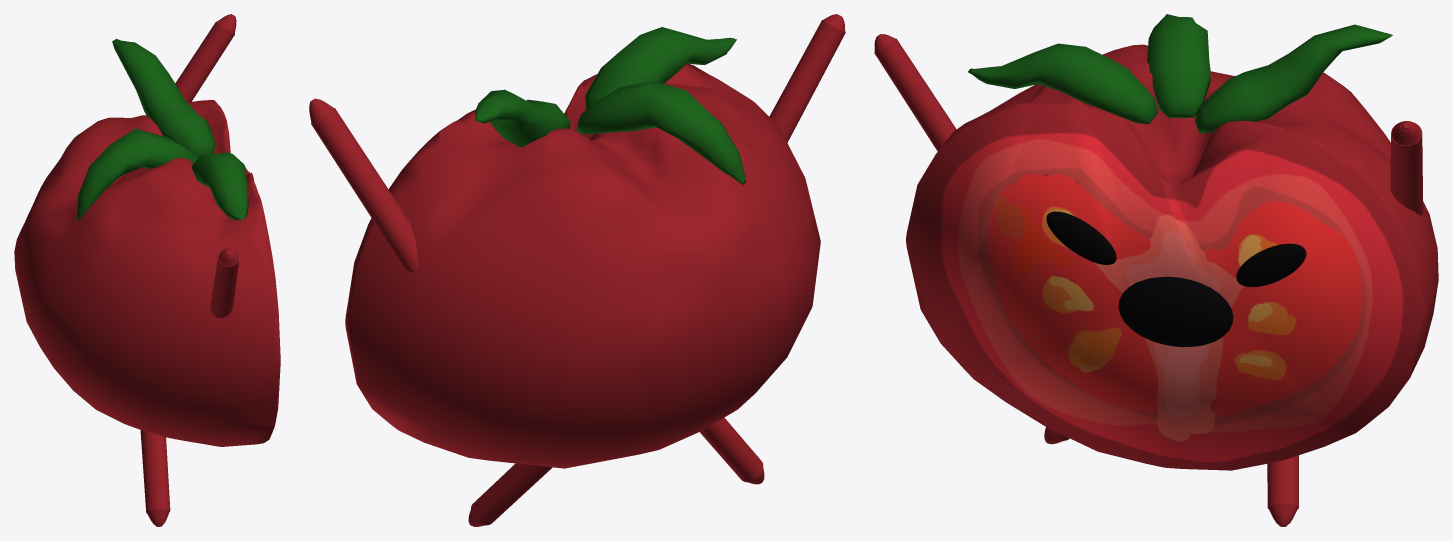
Rendered from tomato.glb.
3 views of the same model, side by side, from view 1: azimuth 30°, elevation 25°; view 2: azimuth 150°, elevation 25°; view 3: azimuth 270°, elevation 25° (orthographic). The views are drawn at different scales.
Parts seen in each view (by area): view 1: tomato body, tomato leaves, Cylinder.003, Cylinder, Cylinder.001; view 2: tomato body, tomato leaves, Cylinder, Cylinder.001, Cylinder.002, Cylinder.003; view 3: tomato body, tomato leaves, Sphere.002, Cylinder.001, Cylinder, Sphere, Sphere.001, Cylinder.002.
Boxes of the visible parts, bbox=[...] form: tomato body: bbox=[14, 100, 280, 446]; tomato leaves: bbox=[76, 39, 248, 220]; Cylinder.003: bbox=[140, 430, 170, 526]; Cylinder: bbox=[175, 14, 236, 102]; Cylinder.001: bbox=[210, 248, 239, 317]; tomato body: bbox=[345, 63, 820, 468]; tomato leaves: bbox=[475, 27, 745, 184]; Cylinder: bbox=[309, 98, 418, 273]; Cylinder.001: bbox=[769, 14, 845, 142]; Cylinder.002: bbox=[468, 463, 552, 526]; Cylinder.003: bbox=[700, 417, 764, 484]; tomato body: bbox=[906, 44, 1438, 470]; tomato leaves: bbox=[968, 14, 1392, 133]; Sphere.002: bbox=[1118, 276, 1233, 347]; Cylinder.001: bbox=[874, 34, 956, 151]; Cylinder: bbox=[1390, 121, 1423, 215]; Sphere: bbox=[1046, 211, 1116, 264]; Sphere.001: bbox=[1236, 243, 1306, 287]; Cylinder.002: bbox=[1267, 455, 1298, 526].
Size of the model in its own units: 2.18 by 2.72 by 2.95.
Materials: 6 (1 with a texture image).
